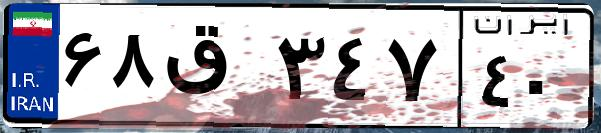0: (525, 38, 570, 115)
3: (270, 28, 330, 110)
4: (330, 28, 385, 110), (475, 38, 525, 113)
6: (57, 26, 110, 100)
7: (385, 28, 445, 110)
8: (110, 28, 158, 98)
ق: (158, 20, 270, 120)
